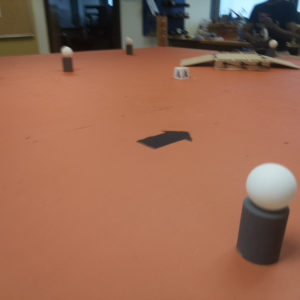blockA: (173, 66, 190, 80)
corner: (153, 13, 169, 49)
obstacle: (235, 164, 297, 267), (58, 45, 74, 72), (125, 37, 134, 56), (268, 39, 278, 54)
side: (218, 57, 269, 74)
slope: (177, 55, 214, 67), (272, 57, 300, 72)
start: (139, 125, 197, 156)
